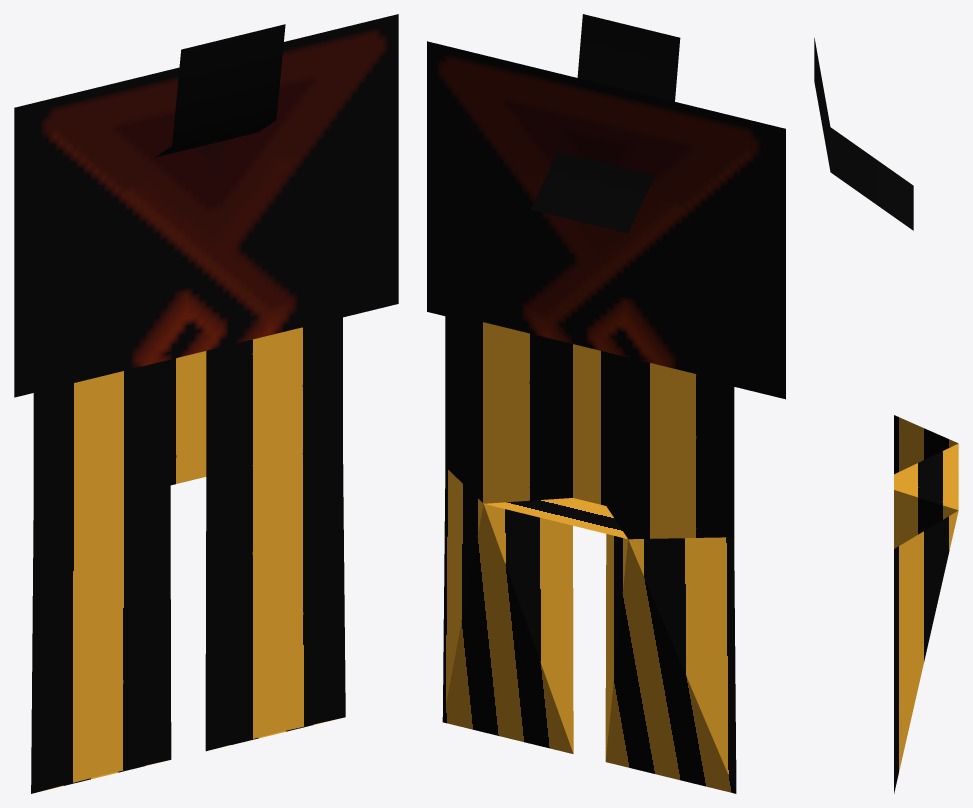
3 views of the same model, side by side, from view 1: azimuth 30°, elevation 25°; view 2: azimuth 150°, elevation 25°; view 3: azimuth 270°, elevation 25° (orthographic). The views are drawn at different scales.
Visible parts, largest first — view 1: clo_pants01; view 2: clo_pants01; view 3: clo_pants01.
Boxes of the visible parts, x1,y1,x2,y2 form: clo_pants01: [14, 14, 398, 793]; clo_pants01: [427, 14, 785, 793]; clo_pants01: [814, 37, 958, 793].
Size of the model in its own units: 0.5034 by 0.9407 by 0.1846.
2 materials, 2 textured.
